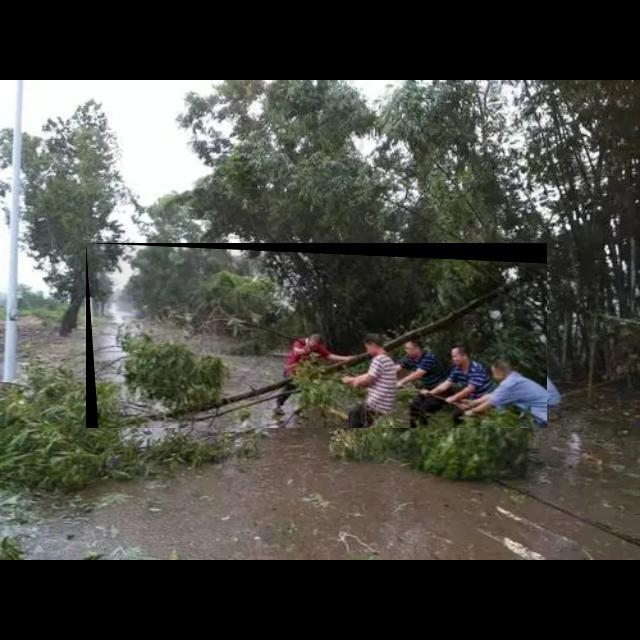fallen_tree: (86, 243, 548, 429)
